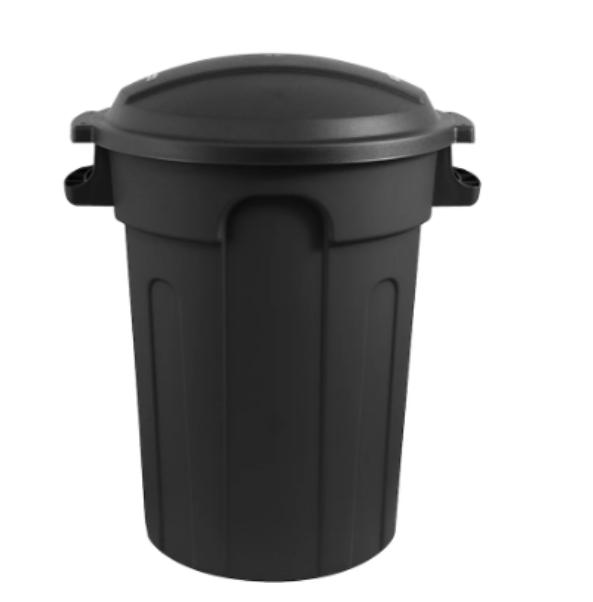garbage container: (57, 50, 488, 587)
